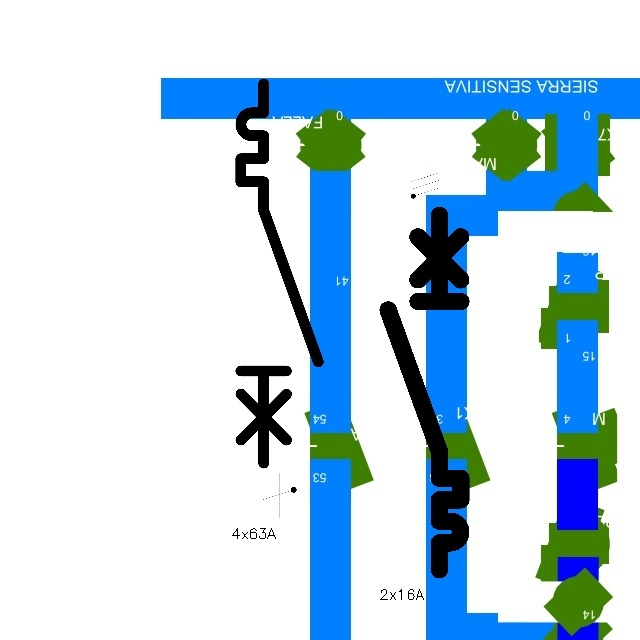interruptor_termomagnetico: (231, 74, 328, 472), (379, 206, 470, 579)
